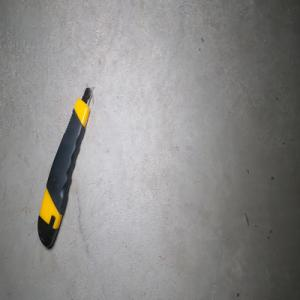Cutter: (36, 86, 93, 249)
